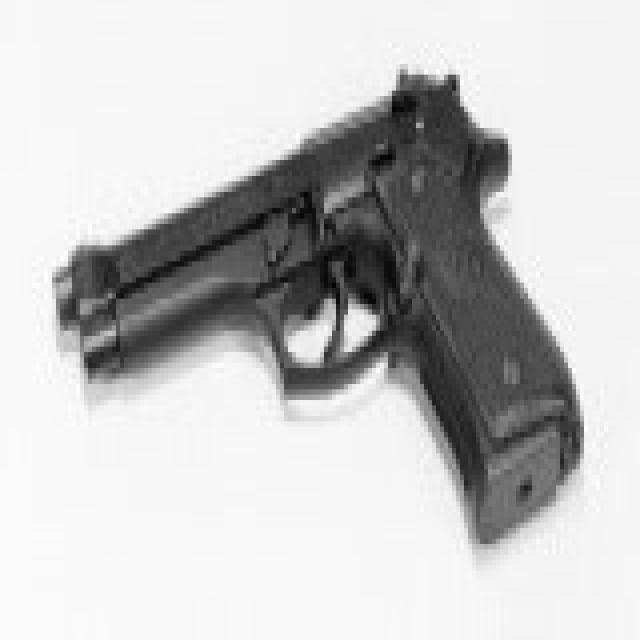Gun: (38, 36, 603, 526)
